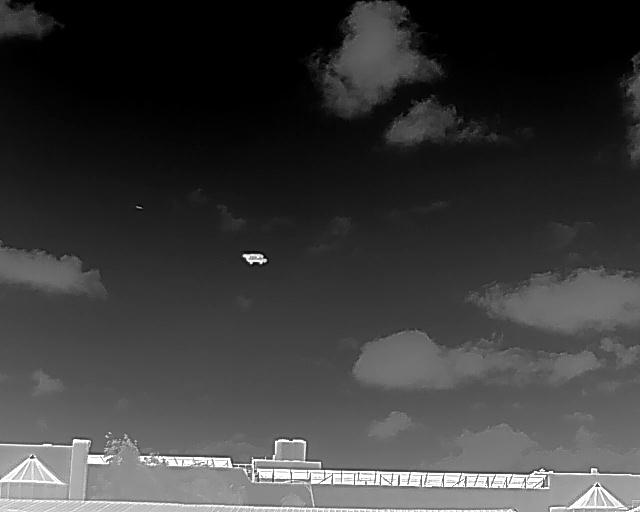fpv-drone: (242, 252, 268, 266)
